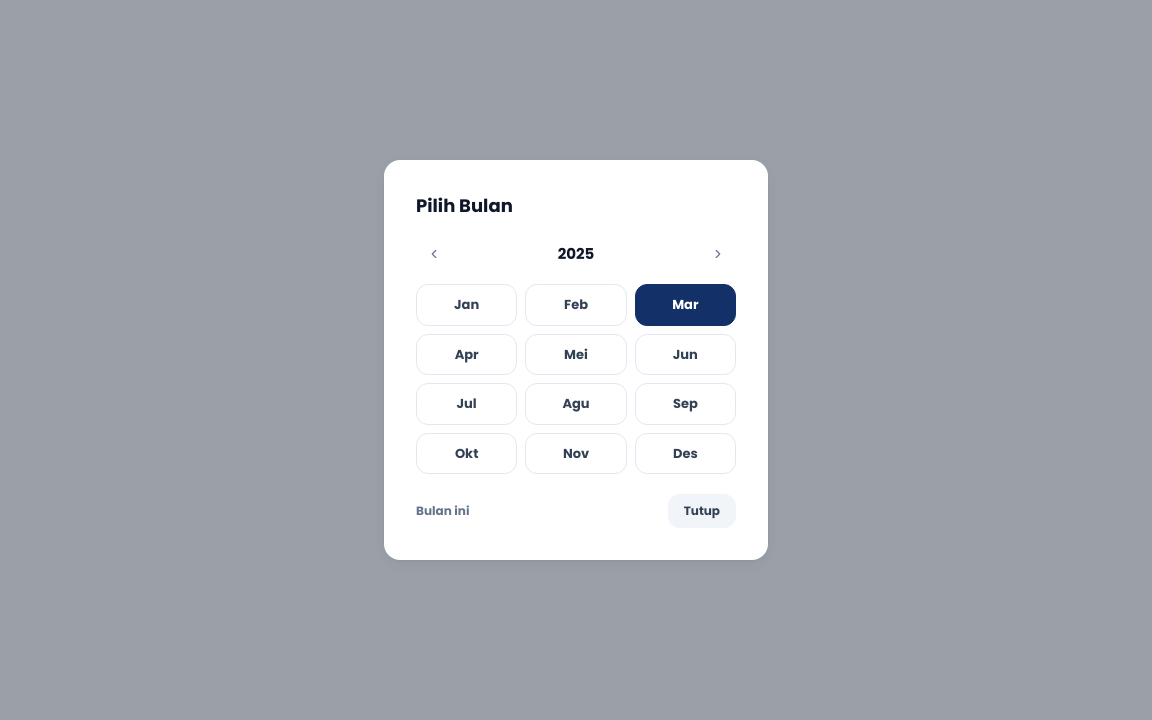
Test: MonthPickerModal › keeps a boundary year reachable when the bound falls mid-year
Click the button with test id "month-picker-prev-year" at (434, 254), box x1=416 y1=236 x2=452 y2=272
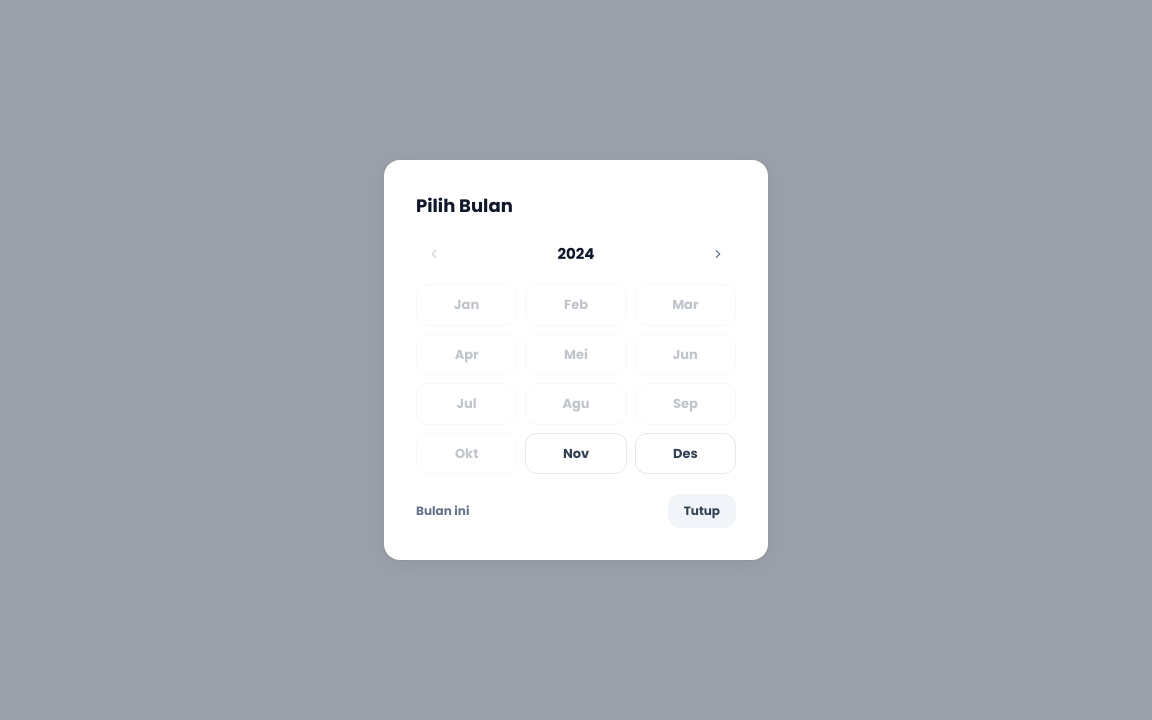
Expected: the button with test id "month-picker-cell" is enabled, x1=525 y1=432 x2=627 y2=474
Now the text with test id "month-picker-year" reads "2024", box x1=558 y1=243 x2=595 y2=264
Now the button with test id "month-picker-cell" is disabled, box x1=416 y1=432 x2=517 y2=474
